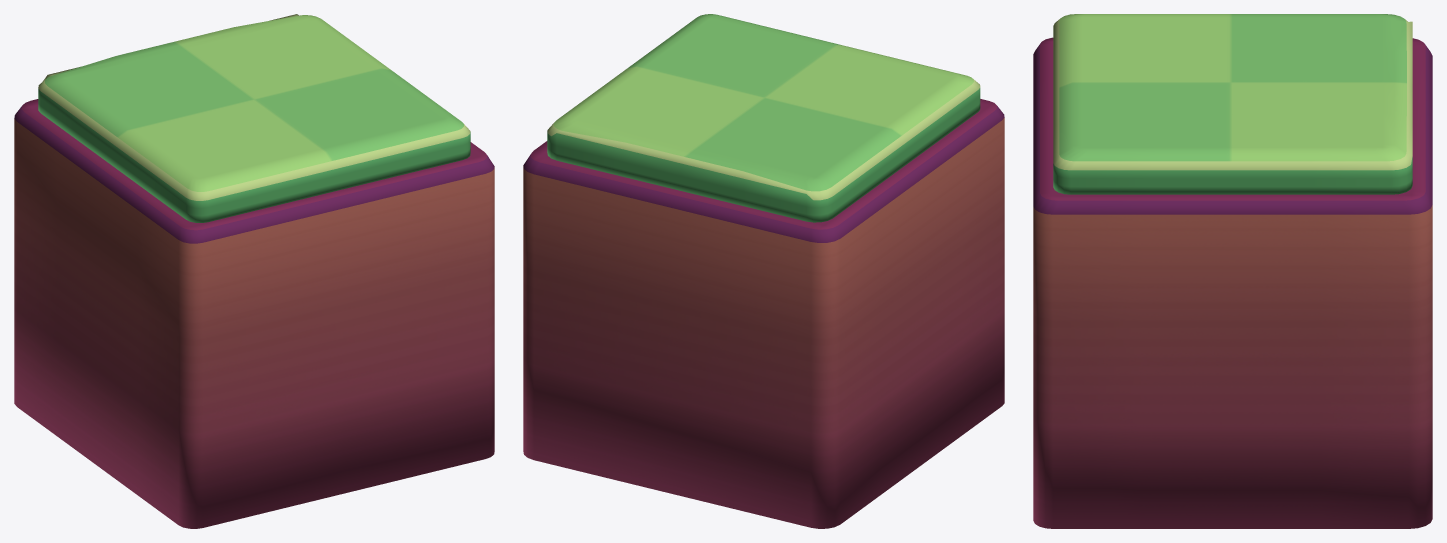
3 renders of one model, left to right at view 1: azimuth 30°, elevation 25°; view 2: azimuth 150°, elevation 25°; view 3: azimuth 270°, elevation 25°, orthographic. The views are drawn at different scales.
Parts seen in each view (by area): view 1: Platform Soil 2, Platform Grass 2; view 2: Platform Soil 2, Platform Grass 2; view 3: Platform Soil 2, Platform Grass 2.
Part boxes in pixels (bbox=[...]): Platform Soil 2: bbox=[14, 99, 494, 528]; Platform Grass 2: bbox=[38, 14, 470, 222]; Platform Soil 2: bbox=[523, 99, 1004, 528]; Platform Grass 2: bbox=[547, 14, 980, 222]; Platform Soil 2: bbox=[1033, 37, 1432, 528]; Platform Grass 2: bbox=[1053, 14, 1412, 194].
Bounding box in the file's own units: 200 × 200 × 200.
2 materials, 2 textured.
